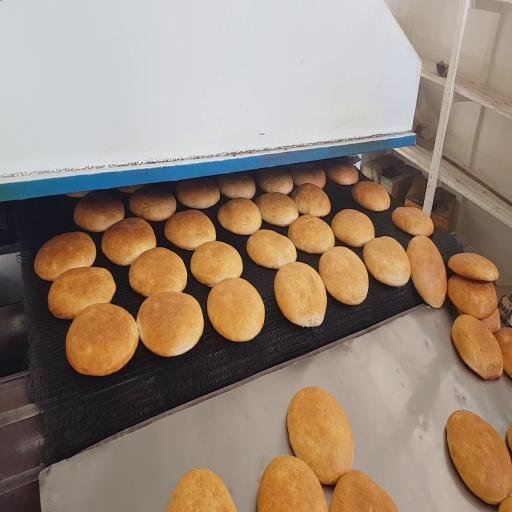bread: (287, 387, 353, 484), (447, 411, 511, 504), (66, 304, 138, 376), (137, 292, 203, 356), (258, 456, 327, 511), (207, 278, 264, 341), (48, 267, 116, 319), (274, 262, 326, 327), (452, 315, 503, 379), (35, 232, 96, 281), (129, 247, 187, 297), (168, 469, 236, 511), (319, 247, 368, 305), (407, 235, 446, 307), (330, 470, 397, 511), (102, 218, 156, 265), (363, 237, 410, 286), (191, 241, 242, 286), (448, 275, 497, 318), (74, 191, 124, 232), (165, 210, 215, 250), (247, 230, 296, 268), (288, 215, 334, 254), (129, 184, 176, 221), (332, 209, 374, 247), (218, 198, 261, 235), (448, 253, 498, 281), (256, 193, 298, 226), (176, 178, 219, 209), (292, 183, 330, 217), (392, 207, 434, 236), (352, 182, 390, 211), (256, 167, 294, 194), (218, 174, 255, 199), (323, 159, 358, 185), (291, 163, 326, 188), (494, 328, 511, 377), (481, 309, 501, 332), (480, 310, 500, 332), (501, 344, 511, 377), (494, 328, 511, 347), (118, 185, 143, 193), (499, 497, 511, 511), (66, 192, 88, 198), (507, 423, 511, 447)
